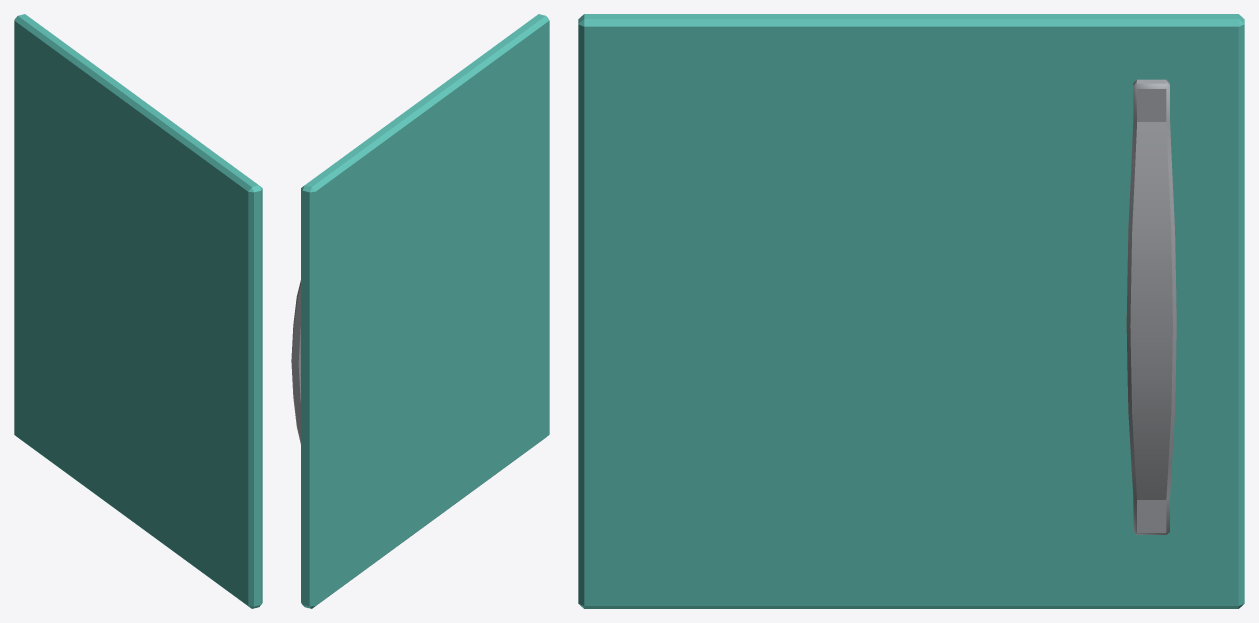
The model's file is Set_door_4.fbx.
3 views of the same model, side by side, from view 1: azimuth 30°, elevation 25°; view 2: azimuth 150°, elevation 25°; view 3: azimuth 270°, elevation 25° (orthographic). The views are drawn at different scales.
Visible parts, largest first — view 1: Set_door_4; view 2: Set_door_4; view 3: Set_door_4.
Boxes of the visible parts, left/top/right/bottom form: Set_door_4: left=14, top=14, right=262, bottom=608; Set_door_4: left=291, top=14, right=549, bottom=608; Set_door_4: left=578, top=14, right=1244, bottom=608.
Size of the model in its own units: 0.0655 by 0.5544 by 0.5675.
